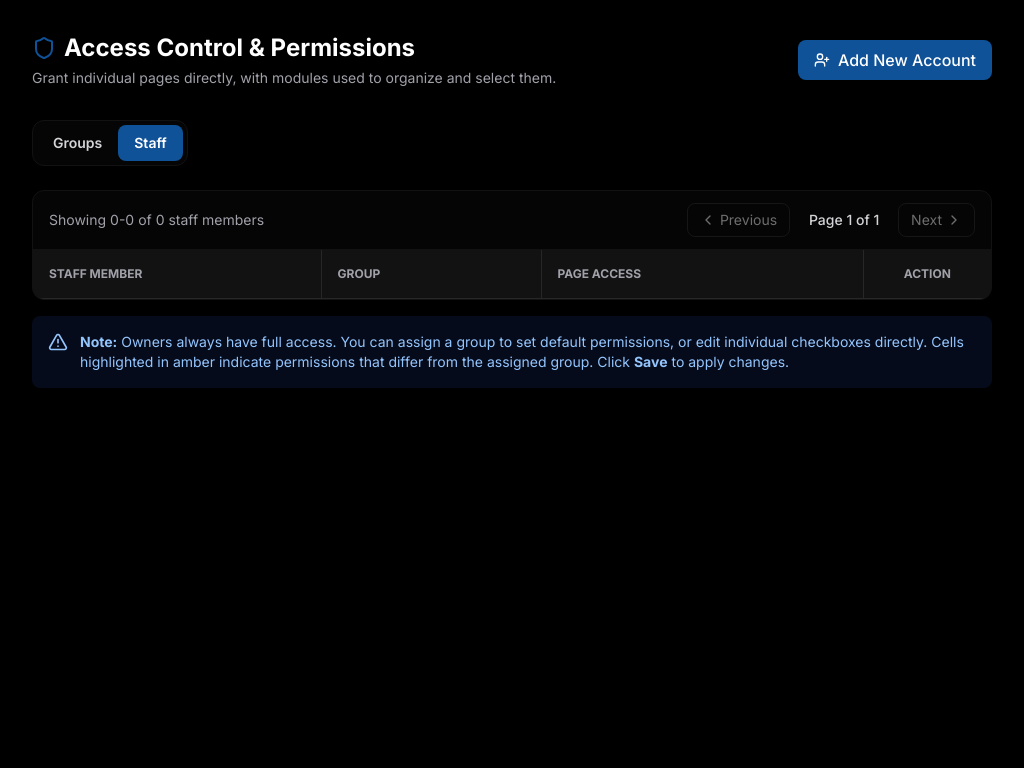
AccessControlSettings - create staff account › keeps the modal open and renders field errors when service validation fails
Click the button "Add New Account". click: (895, 60)
box: top-left (798, 40), bottom-right (992, 80)
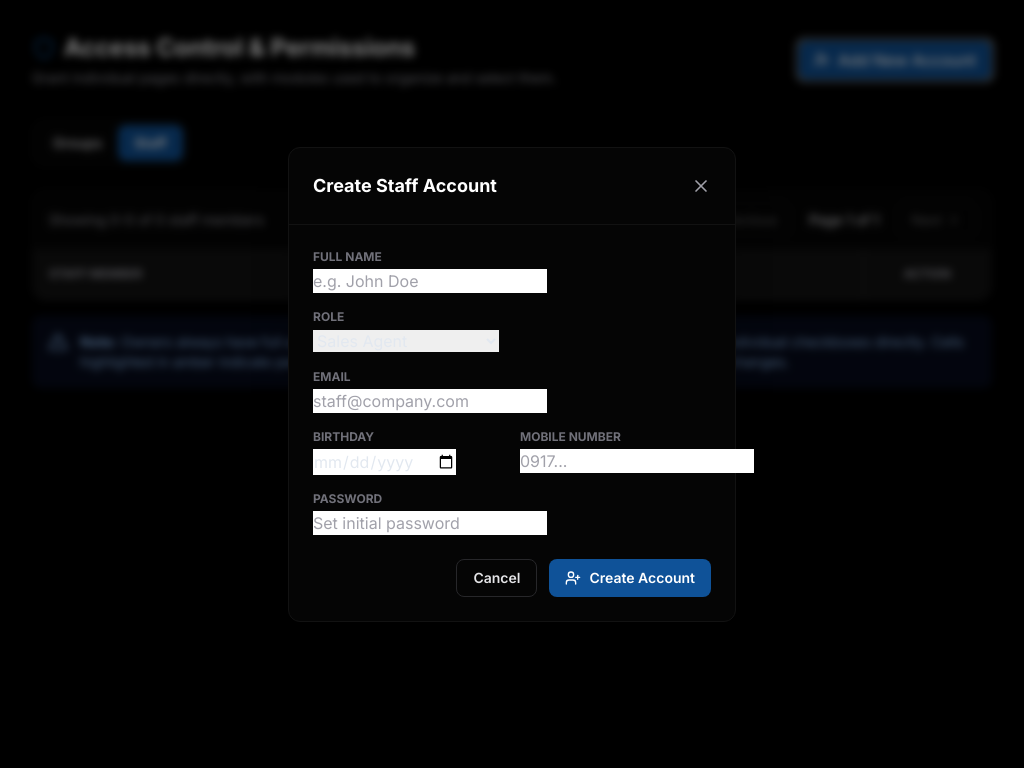
Type "Jane Doe" into the field with placeholder "e.g. John Doe". click: (430, 280)
box: top-left (313, 268), bottom-right (547, 292)
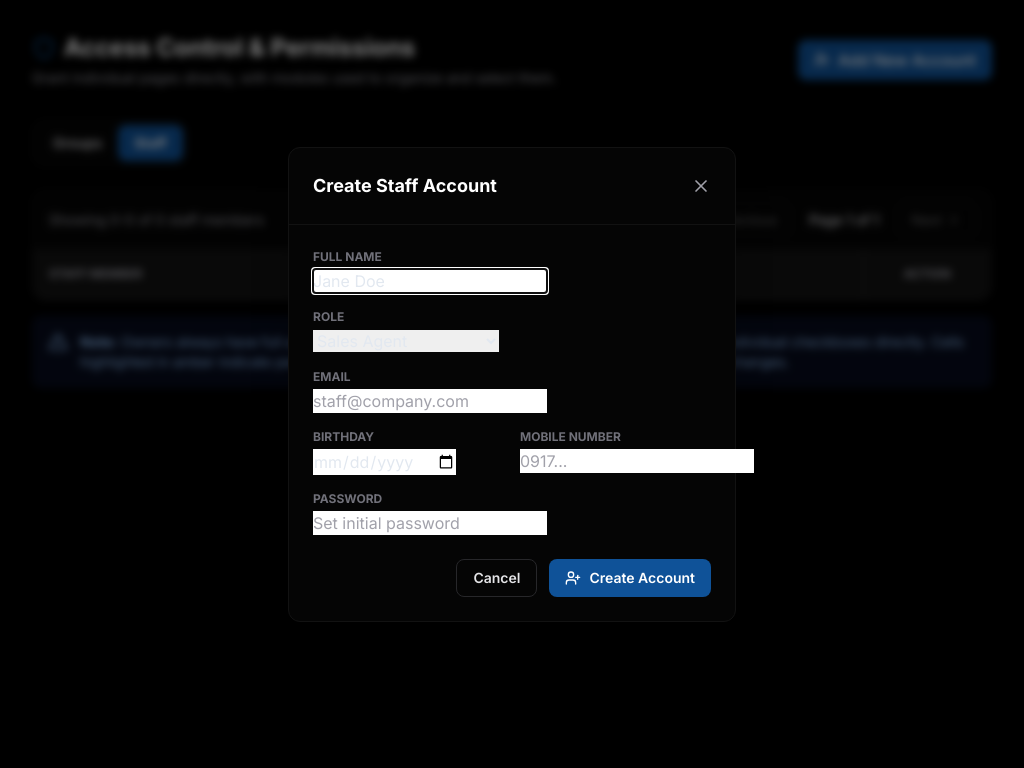
Type "jane@example.com" into the field with placeholder "staff@company.com". click: (430, 400)
box: top-left (313, 388), bottom-right (547, 412)
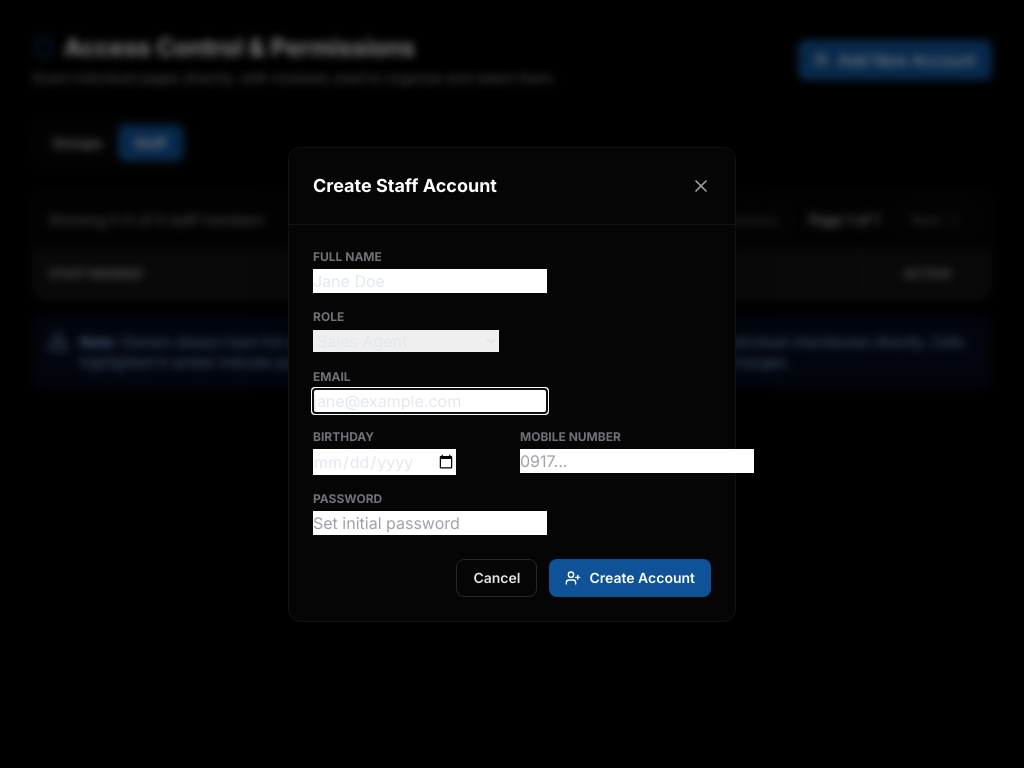
Type "StrongPass1" into the password field with placeholder "Set initial password". click: (430, 522)
box: top-left (313, 510), bottom-right (547, 534)
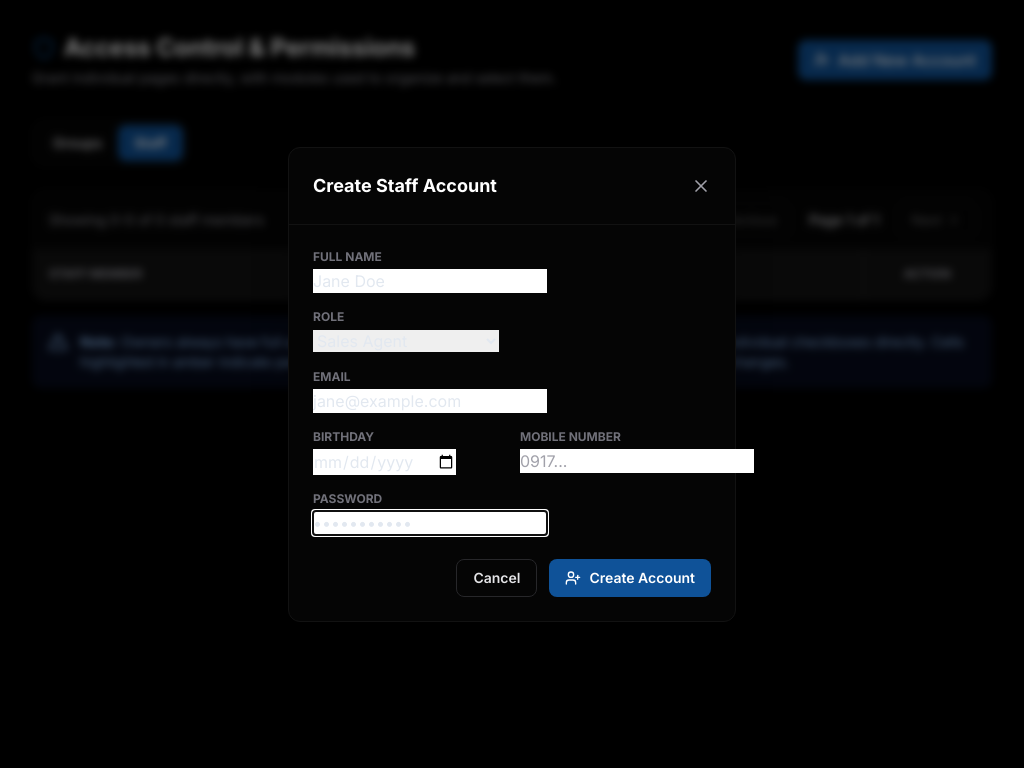
Click the button "Create Account". click: (630, 578)
box: top-left (550, 558), bottom-right (711, 596)
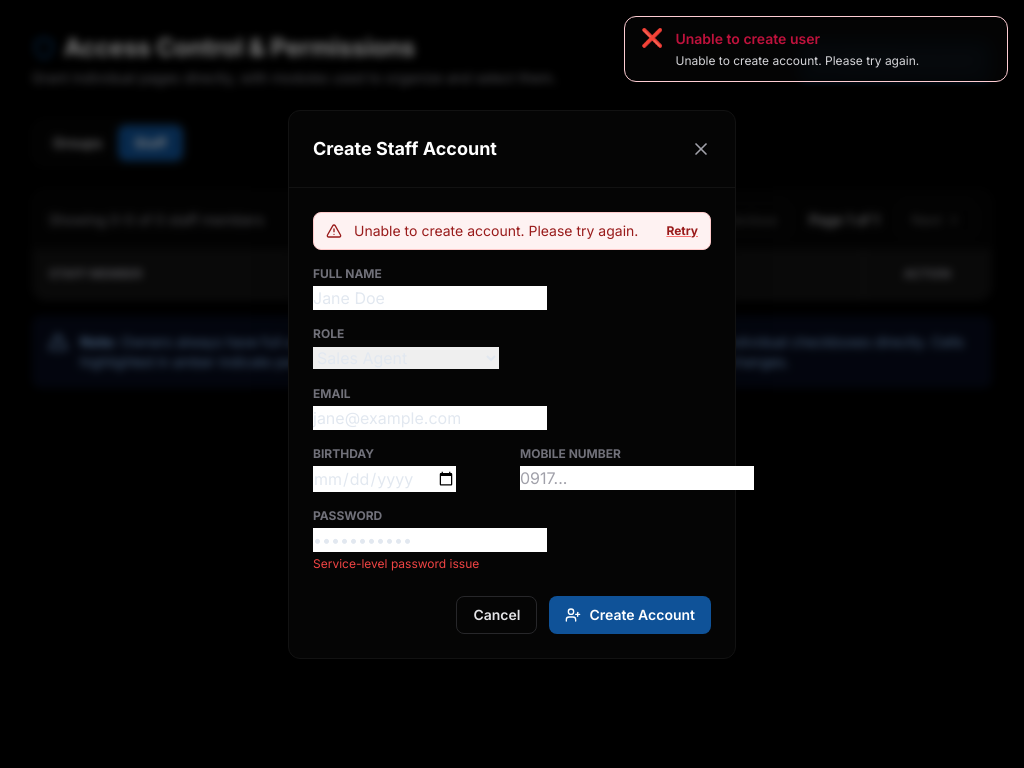
Expected: the heading "Create Staff Account" is shown, top-left (313, 134), bottom-right (497, 162)
Expected: the text "Unable to create account. Please try again." below "Create Staff Account" is shown, top-left (354, 222), bottom-right (638, 238)
Expected: the text "Service-level password issue" is shown, top-left (313, 556), bottom-right (479, 570)
